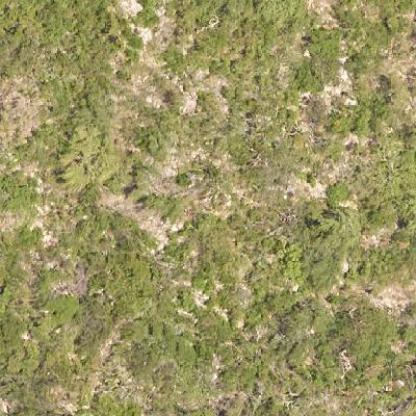tree-top: (300, 198, 361, 296), (53, 112, 122, 193)
